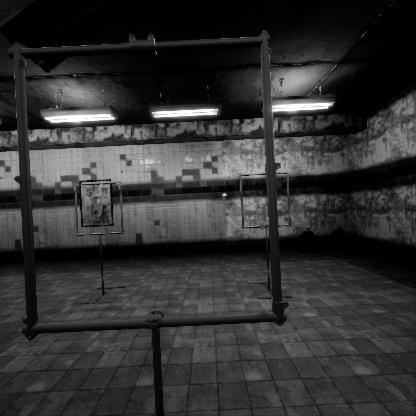gate: (16, 79, 307, 380), (239, 186, 295, 244), (74, 179, 128, 234)
